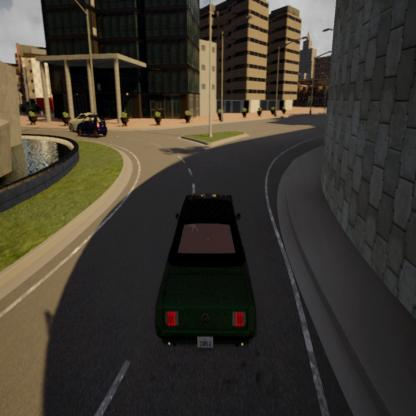Cars: (150, 187, 262, 362), (66, 103, 106, 139), (74, 111, 110, 138)
